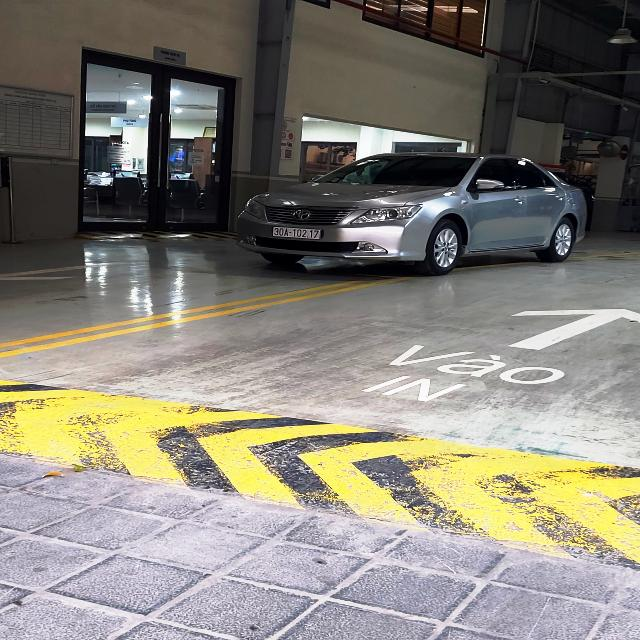license_plate: (271, 226, 326, 242)
